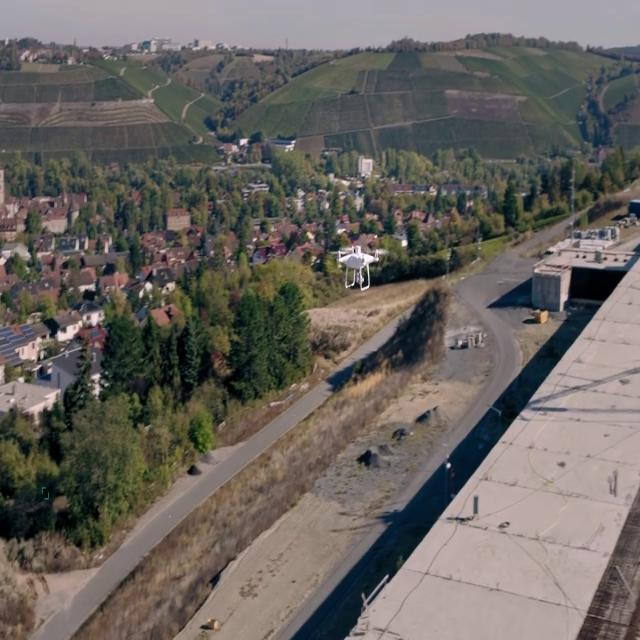drone: (328, 240, 390, 292)
